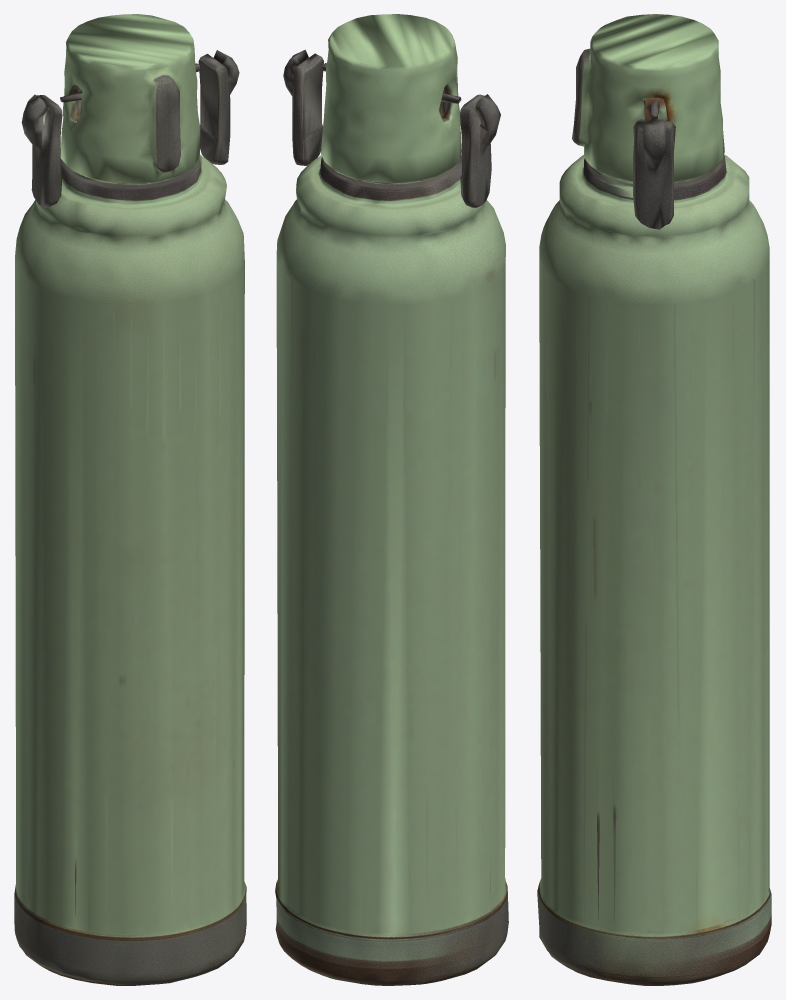
The model's file is Thermos.fbx.
The picture shows the model from 3 angles, left to right: view 1: azimuth 30°, elevation 25°; view 2: azimuth 150°, elevation 25°; view 3: azimuth 270°, elevation 25°; orthographic projection.
Visible parts, largest first — view 1: mesh_node; view 2: mesh_node; view 3: mesh_node.
Part boxes in pixels (box(x1,y1,x2,y2)): mesh_node: box(14, 14, 246, 985); mesh_node: box(275, 14, 508, 985); mesh_node: box(537, 14, 771, 985).
Size of the model in its own units: 46.58 by 191 by 45.01.
1 material, 1 textured.
